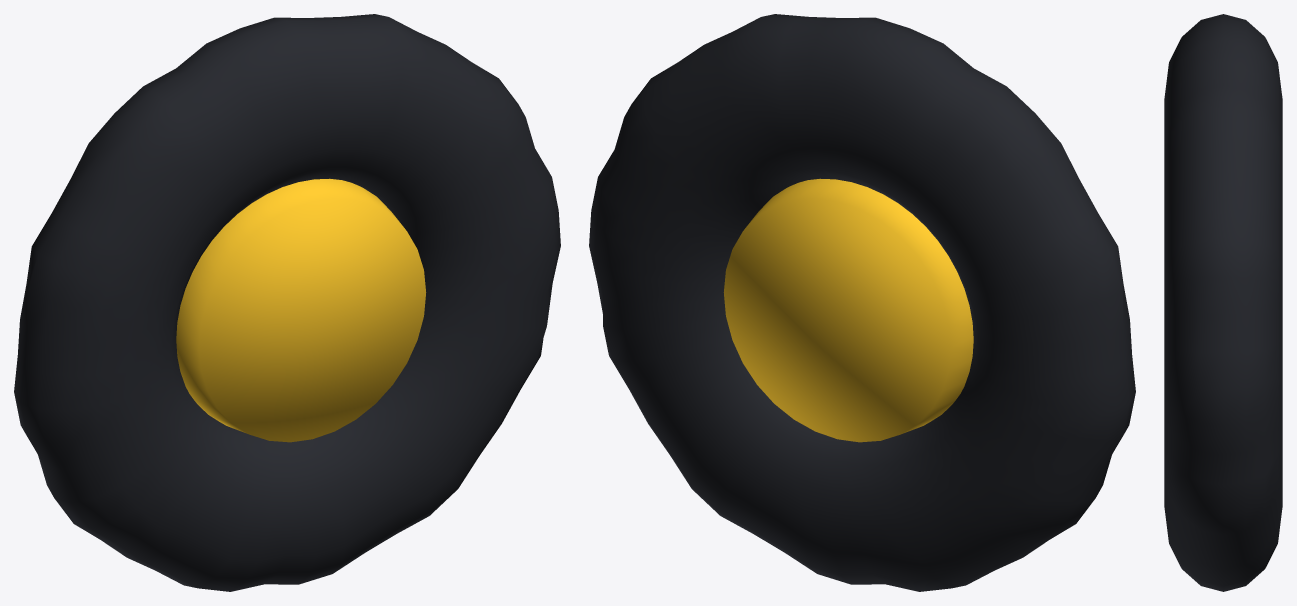
The model's file is tire.glb.
The picture shows the model from 3 angles, left to right: view 1: azimuth 30°, elevation 25°; view 2: azimuth 150°, elevation 25°; view 3: azimuth 270°, elevation 25°; orthographic projection. The views are drawn at different scales.
Visible parts, largest first — view 1: Body; view 2: Body; view 3: Body.
Part boxes in pixels (x1,y1,x2,y2): Body: (14,14,560,591); Body: (589,14,1135,591); Body: (1164,14,1282,591).
Size of the model in its own units: 3.52 by 3.54 by 0.72.
